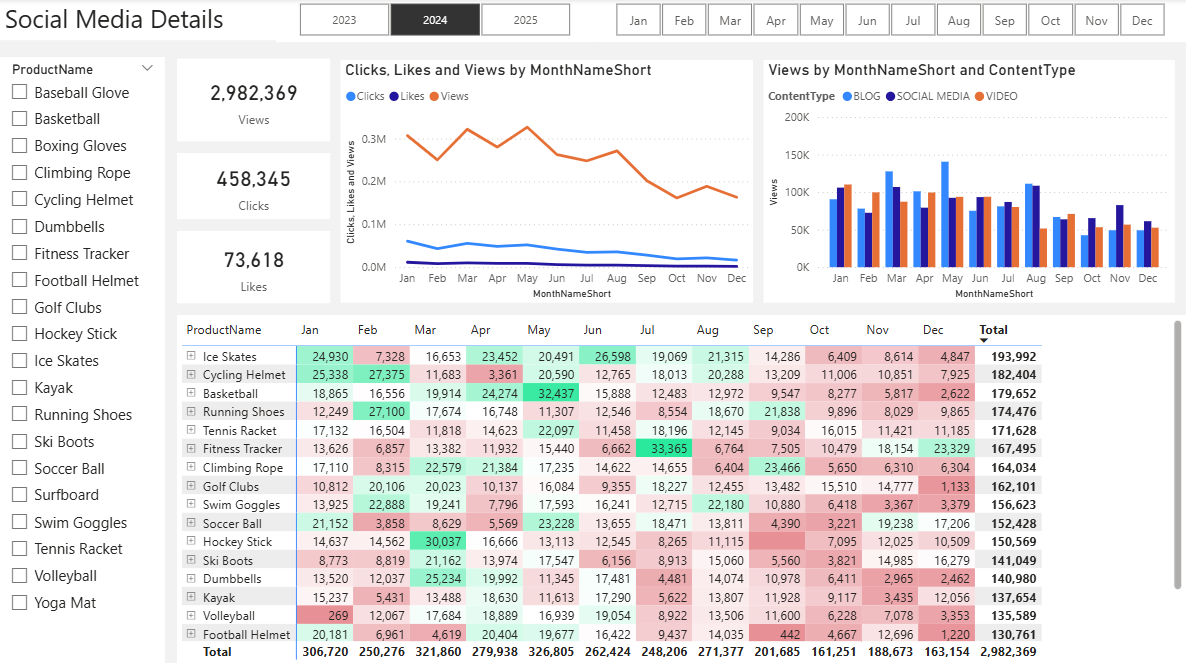

This screenshot's page, from the dashboard's own definition file:
{"tool":"powerbi","page":{"name":"Social Media Details","canvas":[1280,720],"ordinal":2},"visuals":[{"type":"textbox","box":[0,0,1280.8,47],"z":0},{"type":"slicer","fields":{"Values":["dim_products.ProductName"]},"box":[0,64.8,178.1,655.8],"z":1000},{"type":"card","fields":{"Values":["_Calculations.Views"]},"box":[191.1,66.4,165.2,89.1],"z":2000},{"type":"card","fields":{"Values":["_Calculations.Clicks"]},"box":[191.1,168.4,165.2,71.2],"z":3000},{"type":"card","fields":{"Values":["_Calculations.Likes"]},"box":[191.1,252.6,165.2,77.7],"z":4000},{"type":"slicer","fields":{"Values":["Calendar.Year"]},"box":[297.9,0,341.7,48.6],"z":5000},{"type":"slicer","fields":{"Values":["Calendar.MonthNameShort"]},"box":[639.6,0,641.2,48.6],"z":6000},{"type":"lineChart","fields":{"Category":["Calendar.MonthNameShort"],"Y":["_Calculations.Clicks","_Calculations.Likes","_Calculations.Views"]},"box":[367.6,68,445.3,262.3],"z":7000},{"type":"clusteredColumnChart","fields":{"Category":["Calendar.MonthNameShort"],"Y":["_Calculations.Views"],"Series":["fact_engagement_data.ContentType"]},"box":[824.2,68,443.7,262.3],"z":8000},{"type":"pivotTable","fields":{"Rows":["dim_products.ProductName","fact_engagement_data.ContentType"],"Columns":["Calendar.MonthNameShort"],"Values":["_Calculations.Views"]},"box":[190.3,342.7,1089.7,377.3],"z":9000}]}

Visuals, with their boxes in screenshot pixels (x1, y1, x2, y2), scaled from the page's 1280x720 canvas onto the 1186x663 screenshot:
textbox: 0, 0, 1185, 43
slicer - dim_products.ProductName: 0, 60, 165, 662
card - _Calculations.Views: 177, 61, 330, 143
card - _Calculations.Clicks: 177, 155, 330, 221
card - _Calculations.Likes: 177, 233, 330, 304
slicer - Calendar.Year: 276, 0, 593, 45
slicer - Calendar.MonthNameShort: 593, 0, 1185, 45
lineChart - Calendar.MonthNameShort x _Calculations.Clicks: 341, 63, 753, 304
clusteredColumnChart - Calendar.MonthNameShort x _Calculations.Views: 764, 63, 1175, 304
pivotTable - dim_products.ProductName x fact_engagement_data.ContentType: 176, 316, 1185, 662
